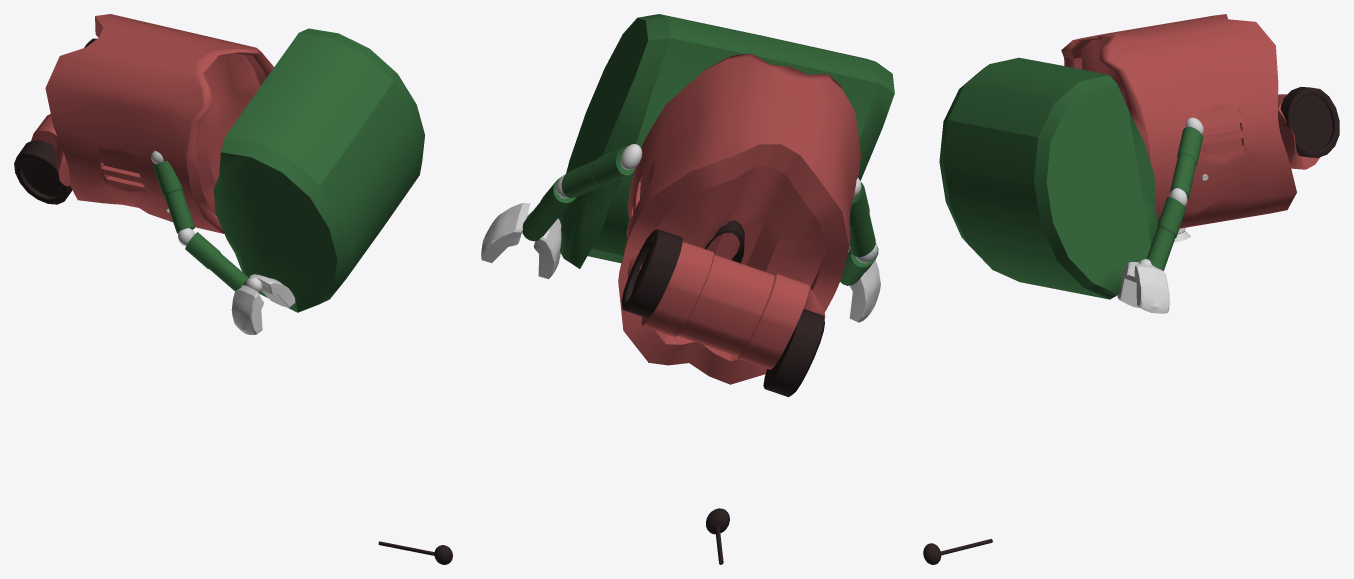
File: SamDies.fbx
3 renders of one model, left to right at view 1: azimuth 30°, elevation 25°; view 2: azimuth 150°, elevation 25°; view 3: azimuth 270°, elevation 25°, orthographic. The views are drawn at different scales.
Visible parts, largest first — view 1: polySurface2, Chest, Wheels_2, RightArm5, RightArm4, RightHand_4, Hips2, RightHand_3; view 2: Chest, polySurface2, Hips2, Wheels_1, Wheels_2, RightArm9, RightHand_5, RightArm8, RightArm4, RightHand_4, RightHand_6, RightArm5 (+1 smaller); view 3: polySurface2, Chest, Wheels_1, RightArm8, RightHand_5, RightArm9, Hips2, RightHand_6.
Boxes of the visible parts, box(x1,y1,x2,y2) form: polySurface2: box(213, 28, 424, 312); Chest: box(45, 14, 273, 233); Wheels_2: box(14, 140, 72, 204); RightArm5: box(185, 232, 248, 290); RightArm4: box(153, 160, 194, 233); RightHand_4: box(231, 285, 263, 334); Hips2: box(31, 114, 70, 186); RightHand_3: box(249, 274, 295, 307); Chest: box(618, 53, 860, 384); polySurface2: box(558, 14, 894, 268); Hips2: box(627, 241, 825, 369); Wheels_1: box(621, 229, 682, 317); Wheels_2: box(763, 309, 824, 397); RightArm9: box(561, 146, 635, 197); RightHand_5: box(481, 203, 530, 263); RightArm8: box(522, 176, 576, 241); RightArm4: box(849, 182, 875, 256); RightHand_4: box(849, 260, 880, 322); RightHand_6: box(533, 218, 561, 279); RightArm5: box(840, 243, 878, 285); polySurface2: box(939, 57, 1157, 299); Chest: box(1061, 14, 1296, 228); Wheels_1: box(1280, 87, 1339, 157); RightArm8: box(1146, 197, 1186, 270); RightHand_5: box(1134, 264, 1169, 313); RightArm9: box(1170, 127, 1202, 199); Hips2: box(1278, 94, 1320, 169); RightHand_6: box(1117, 262, 1139, 307).
Size of the model in its own units: 76.25 by 106 by 85.92.
